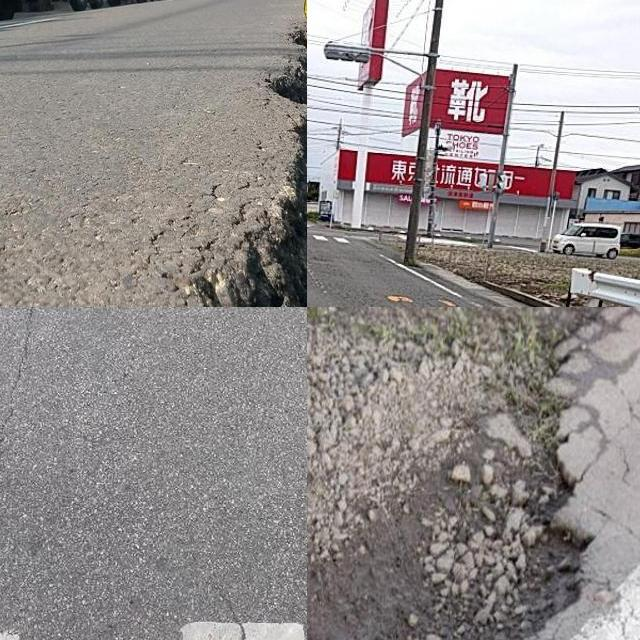Memanjang: (0, 307, 58, 584)
Pinggir: (307, 335, 605, 640), (128, 0, 307, 307)
